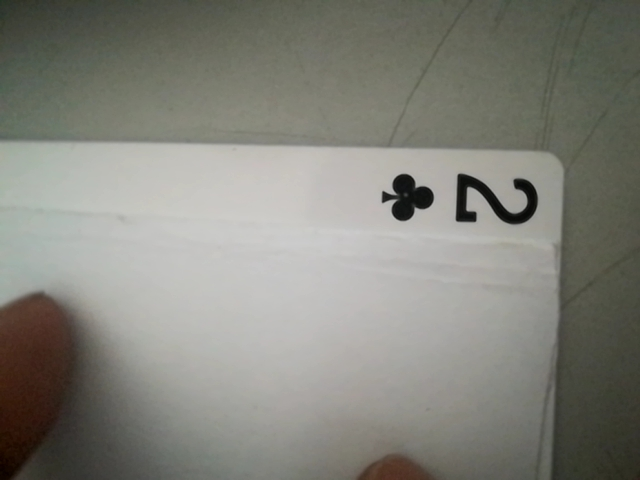mh 2: (368, 160, 555, 239)
